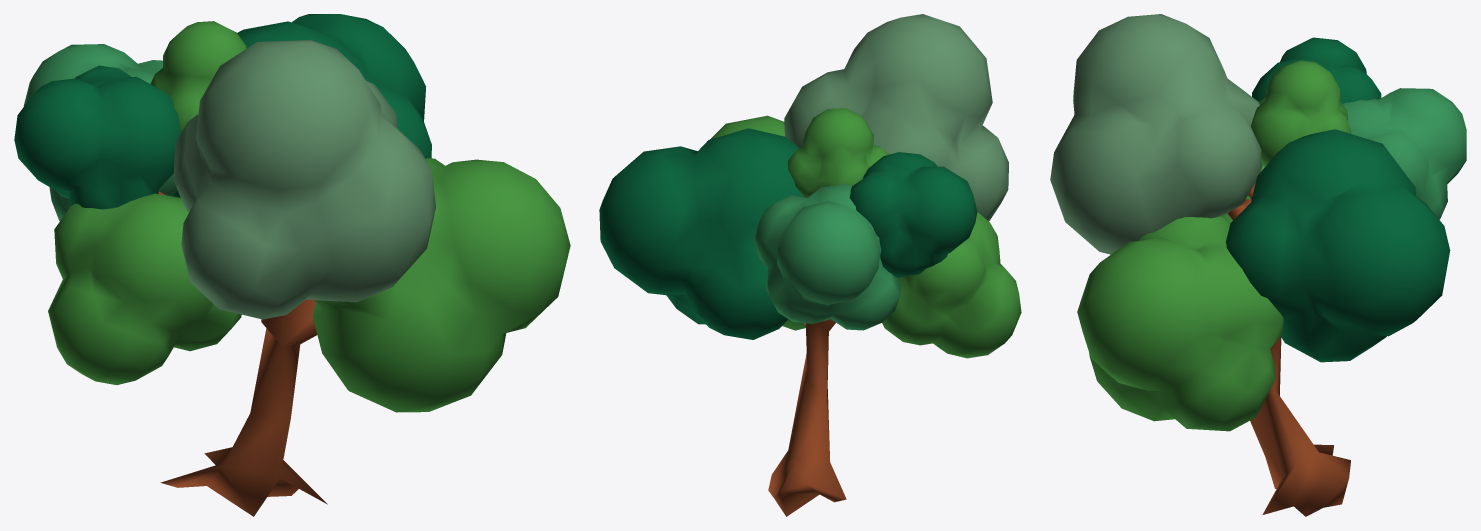
The model's file is Arbol3.glb.
3 views of the same model, side by side, from view 1: azimuth 30°, elevation 25°; view 2: azimuth 150°, elevation 25°; view 3: azimuth 270°, elevation 25° (orthographic). The views are drawn at different scales.
Parts seen in each view (by area): view 1: Esfera.004, Esfera.007, Esfera.003, Esfera.002, Mball.005, Esfera.005, Esfera.006, Esfera.001; view 2: Esfera.005, Esfera.004, Esfera.001, Esfera.003, Esfera.002, Mball.005, Esfera.006, Esfera.007; view 3: Esfera.004, Esfera.005, Esfera.007, Esfera.001, Mball.005, Esfera.006, Esfera.002.
Boxes of the visible parts, <box> form: Esfera.004: <box>173,39,435,319</box>; Esfera.007: <box>312,158,570,412</box>; Esfera.003: <box>48,193,241,385</box>; Esfera.002: <box>14,65,181,209</box>; Mball.005: <box>158,191,327,516</box>; Esfera.005: <box>171,14,431,197</box>; Esfera.006: <box>150,21,246,132</box>; Esfera.001: <box>23,44,177,220</box>; Esfera.005: <box>599,128,803,339</box>; Esfera.004: <box>784,14,1008,221</box>; Esfera.001: <box>754,184,900,330</box>; Esfera.003: <box>882,212,1021,358</box>; Esfera.002: <box>849,152,977,277</box>; Mball.005: <box>768,319,846,516</box>; Esfera.006: <box>788,108,888,197</box>; Esfera.007: <box>710,115,805,330</box>; Esfera.004: <box>1050,14,1262,254</box>; Esfera.005: <box>1225,129,1450,362</box>; Esfera.007: <box>1077,216,1283,431</box>; Esfera.001: <box>1342,88,1466,219</box>; Mball.005: <box>1227,184,1350,516</box>; Esfera.006: <box>1251,60,1351,166</box>; Esfera.002: <box>1252,37,1381,103</box>.
Size of the model in its own units: 6.35 by 7.42 by 6.05.
